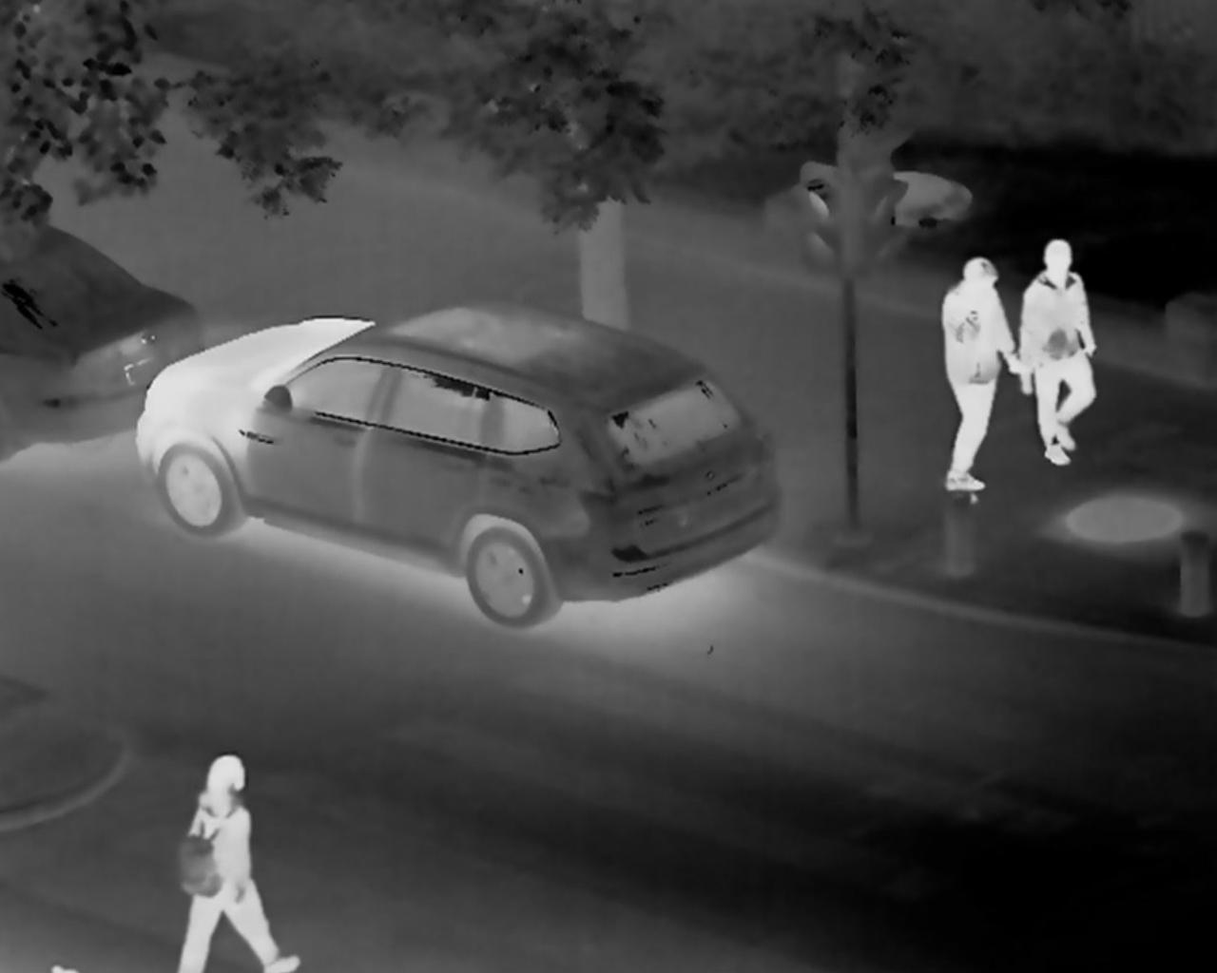person: (176, 743, 306, 973), (1012, 232, 1107, 468), (937, 245, 1018, 503)
